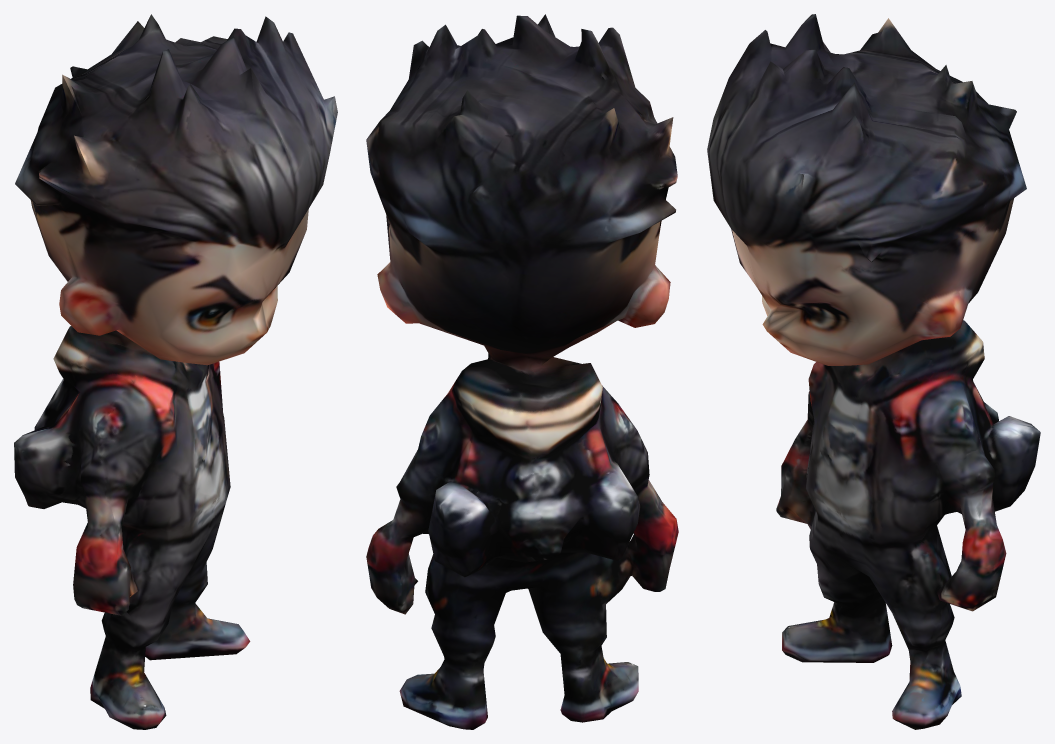
The picture shows the model from 3 angles, left to right: view 1: azimuth 30°, elevation 25°; view 2: azimuth 150°, elevation 25°; view 3: azimuth 270°, elevation 25°; orthographic projection.
Visible parts, largest first — view 1: ProcessedMeshNode_LOD1; view 2: ProcessedMeshNode_LOD1; view 3: ProcessedMeshNode_LOD1.
Boxes of the visible parts, left/top/right/bottom form: ProcessedMeshNode_LOD1: left=14, top=14, right=337, bottom=729; ProcessedMeshNode_LOD1: left=366, top=14, right=678, bottom=729; ProcessedMeshNode_LOD1: left=707, top=14, right=1040, bottom=729.
Bounding box in the file's own units: 43.7 × 97.34 × 44.91.
1 material, 1 textured.
